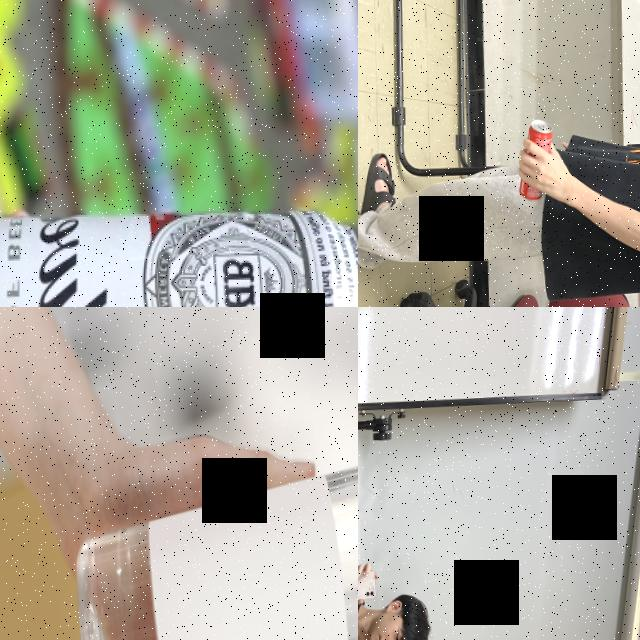bottle: (61, 450, 358, 640)
can: (0, 198, 358, 307), (518, 119, 552, 200)
